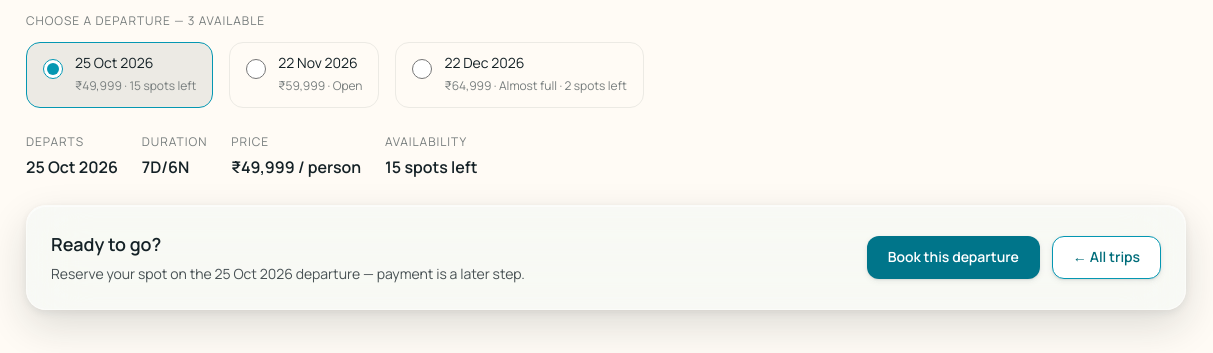
Test: TripDeparturePanel — multiple departures (Phase 4.4C) › 7. & 13. selecting a departure updates the displayed metadata AND the booking CTA to that same departure
Step 1. Click the radio button labelled "22 Dec 2026" → [422, 69], box top-left (412, 59), bottom-right (432, 79)
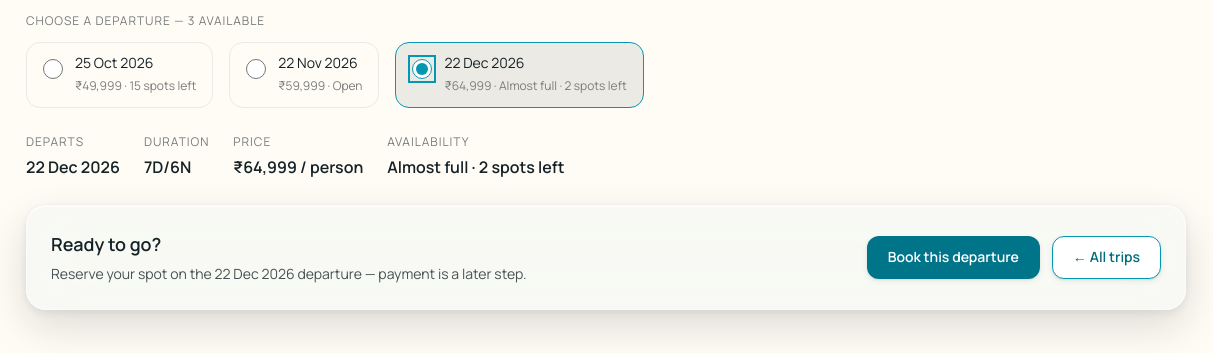
Expected: the radio button labelled "22 Dec 2026" is checked, top-left (412, 59), bottom-right (432, 79)
Expected: the text "Reserve your spot on the 22 Dec 2026 departure" is shown, top-left (51, 264), bottom-right (526, 283)
Expected: the text "Reserve your spot on the 25 Oct 2026 departure" is gone
